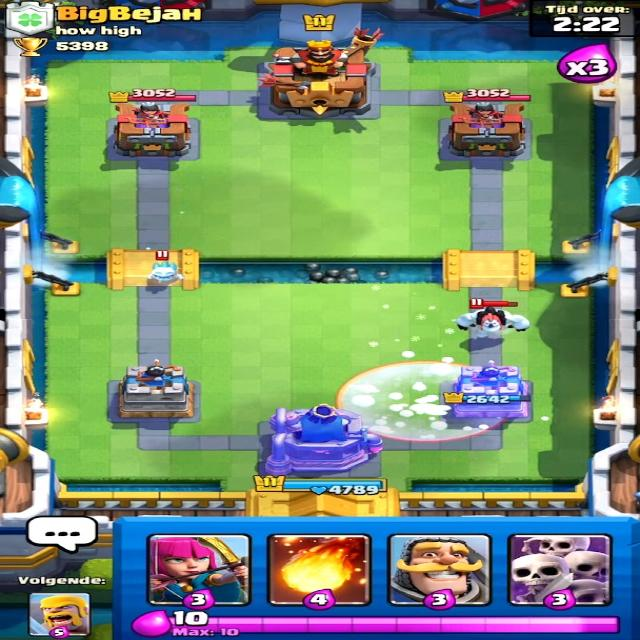Enemy_Ice_Golem_Troop: (453, 304, 531, 336)
Enemy_Ice_Spirit_Troop: (136, 258, 196, 287)
Fireball_Card: (259, 532, 367, 608)
